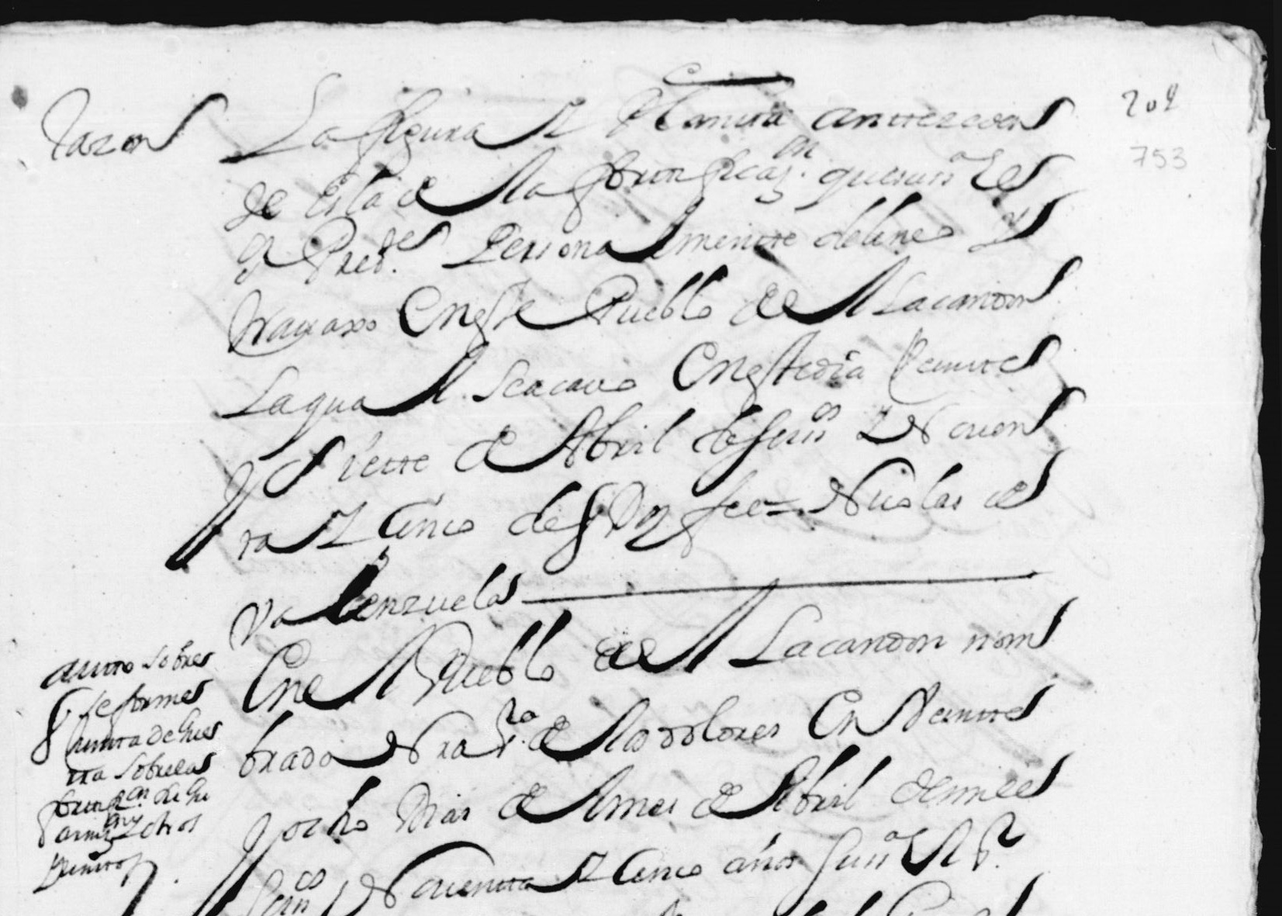lacandon: (728, 603, 946, 668)
